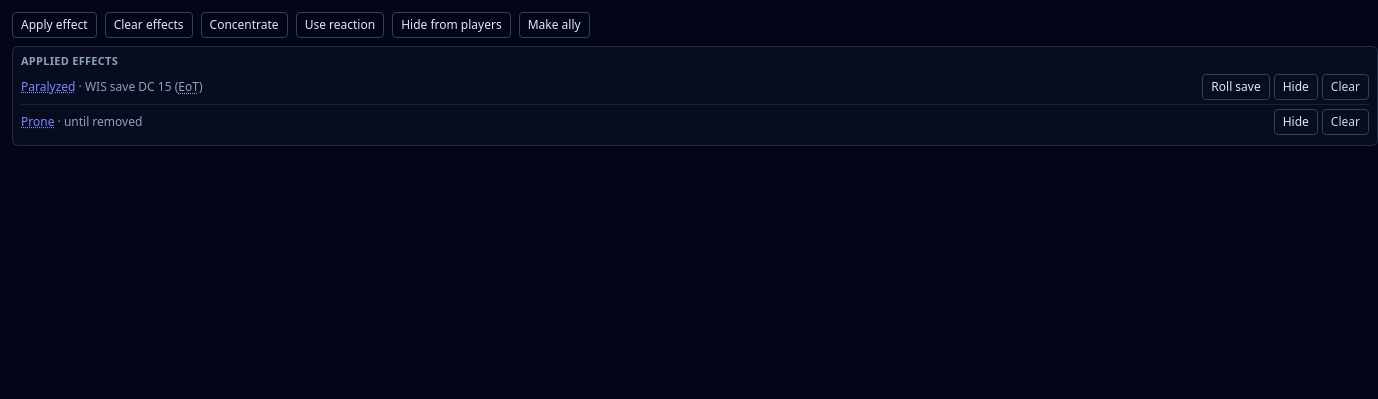
Scenario: CombatantControls › applied effects › explains a listed condition on hover, like the badge on the row does
Hover over the text "Prone".
mouse_move(38, 121)  # box [21,112,54,130]
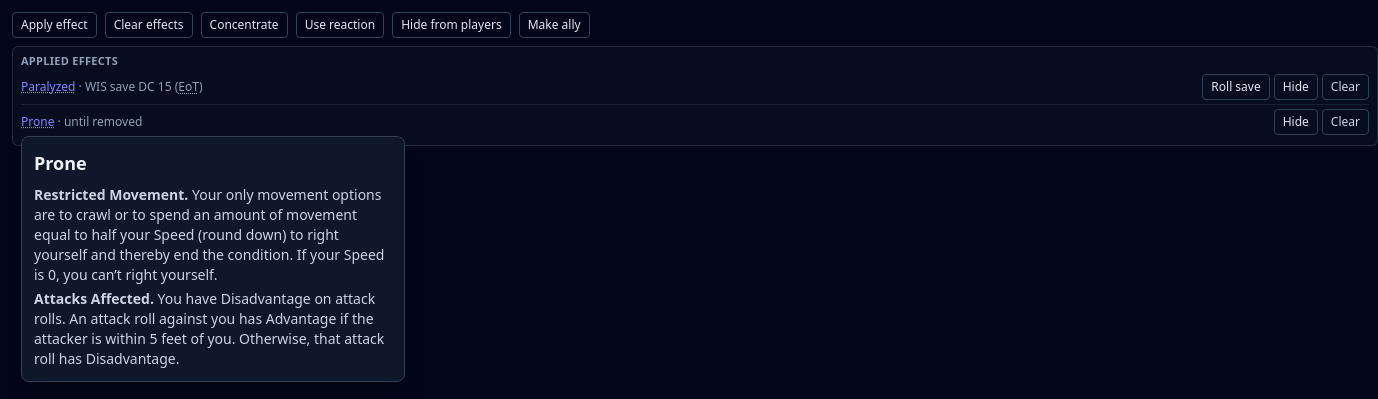
expect the heading "Prone" is shown: met, box [34,150,87,174]
